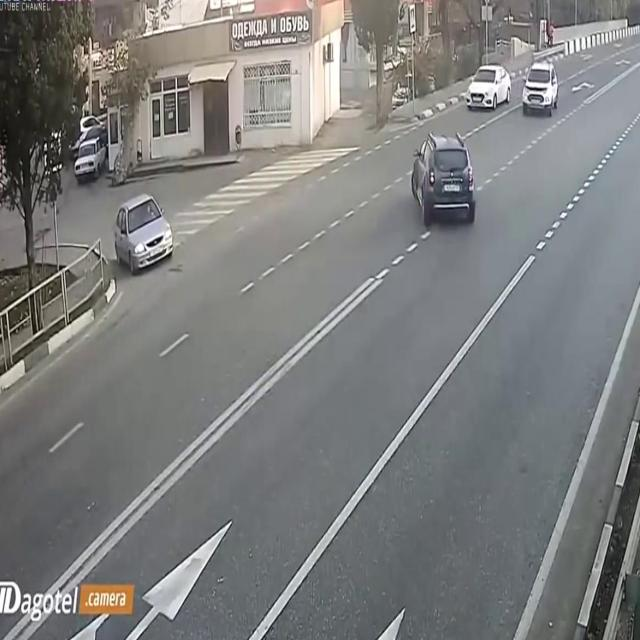non_accident: (464, 56, 564, 124)
